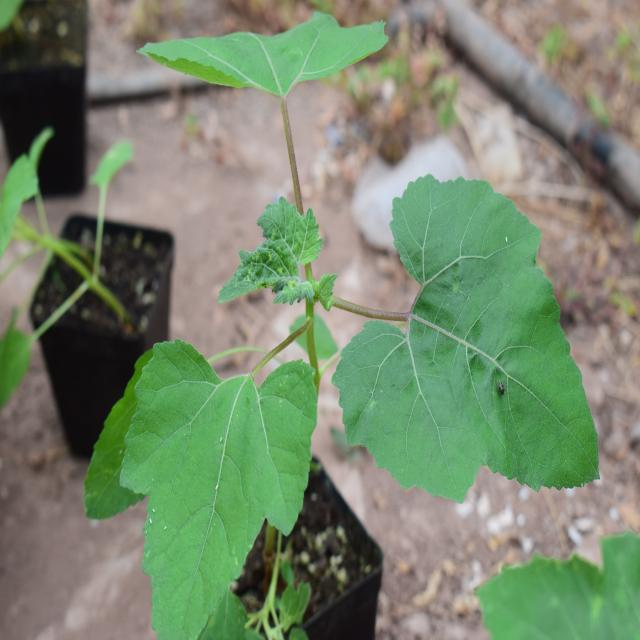cocklebur: (99, 0, 601, 573)
